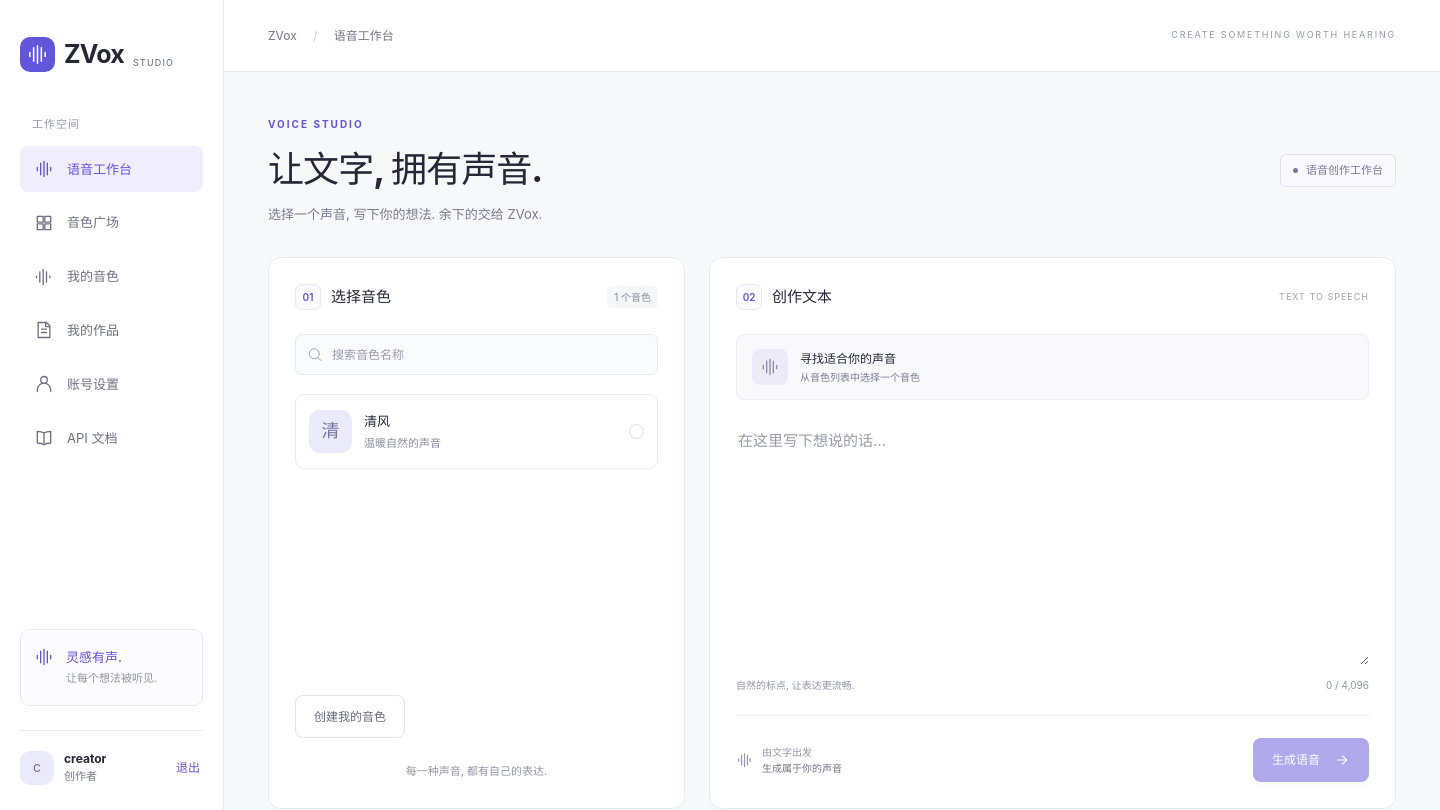
Scenario: application flows › retains user input after rate limiting and never retries creation
This screenshot has width=1440, height=810.
Click the button "清 清风 温暖自然的声音" at (330, 432), box [295,394,658,469]
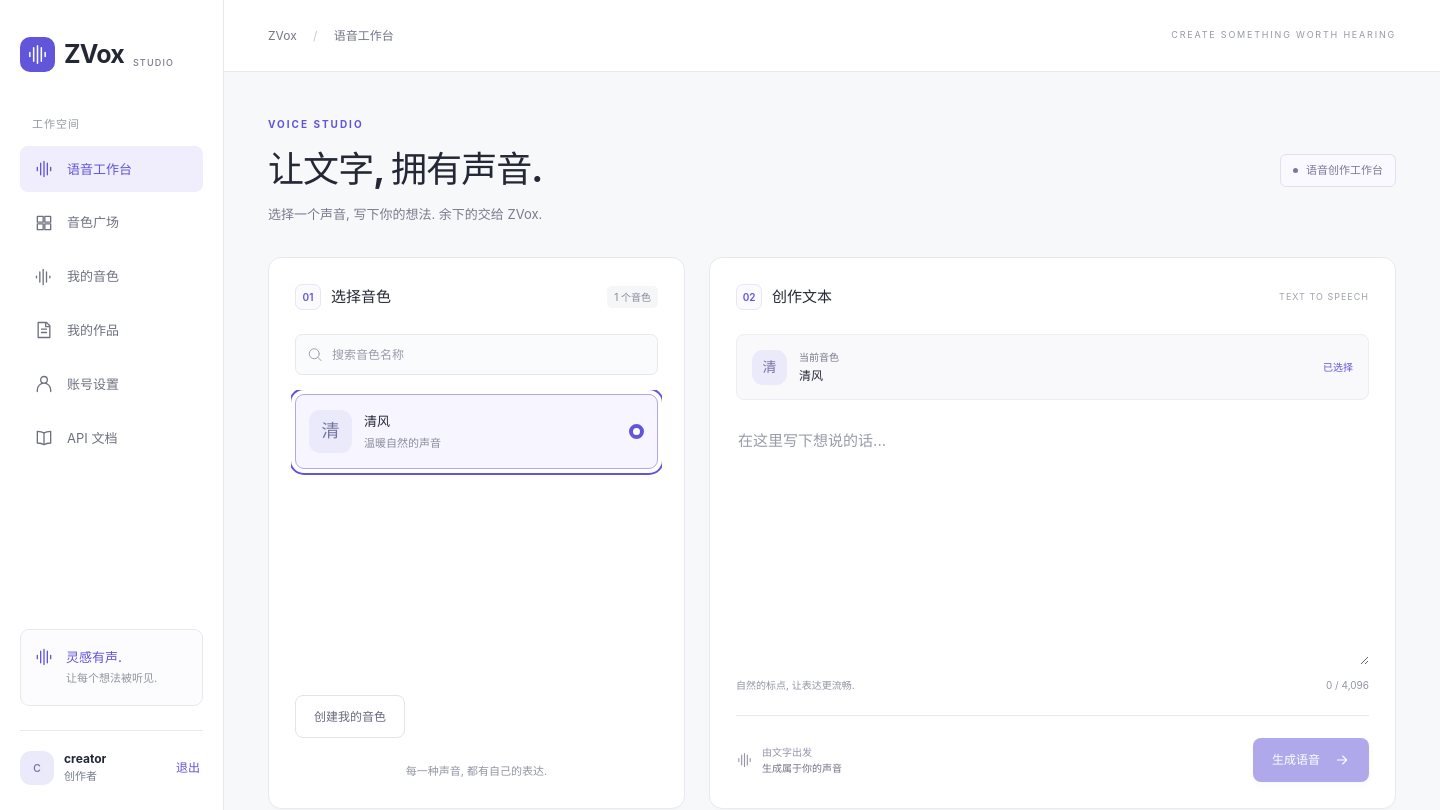
Type "保留这段文本" into the text box named "创作文本" at (1053, 533), box [736,400,1369,665]
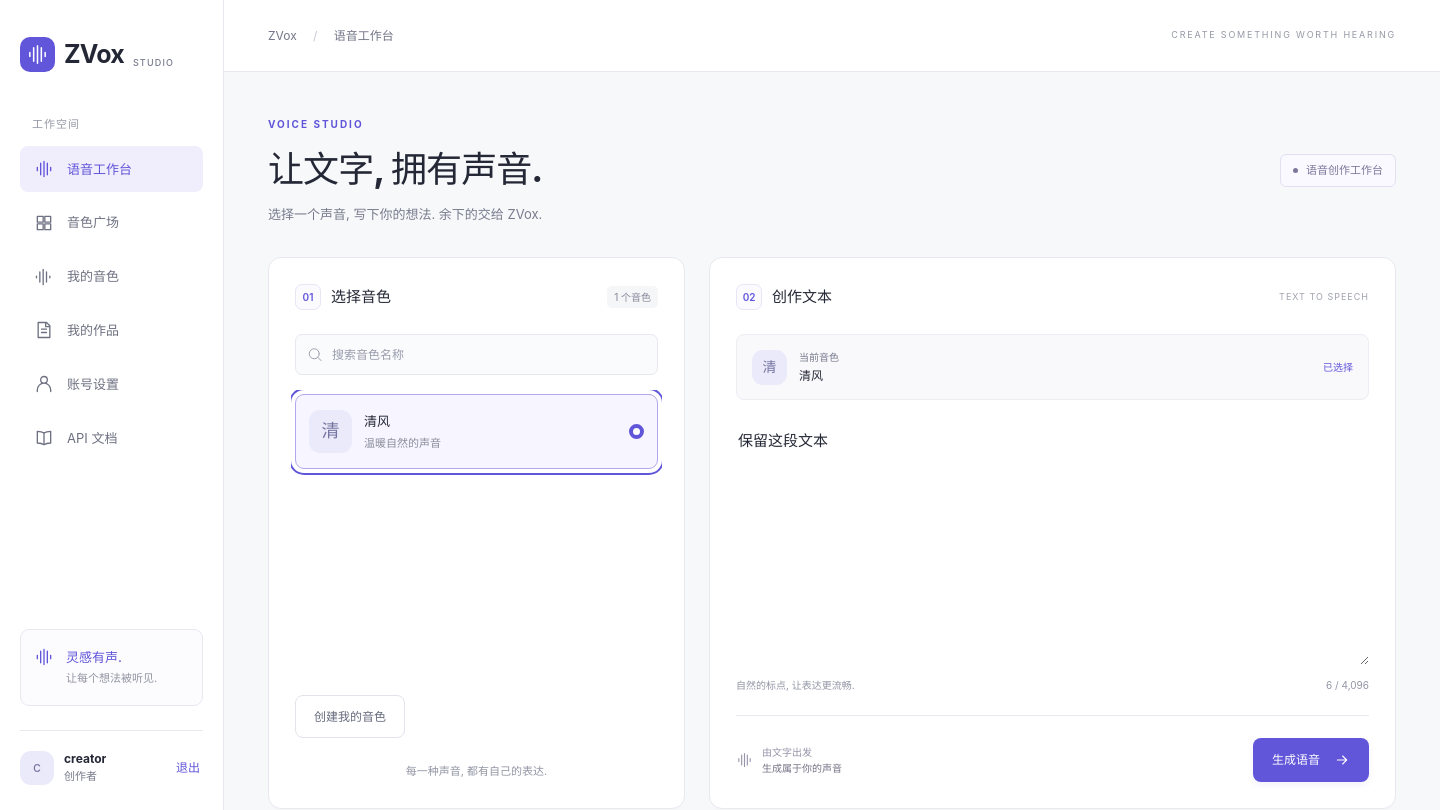
Click the button "生成语音" at (1311, 760), box [1253,738,1369,782]
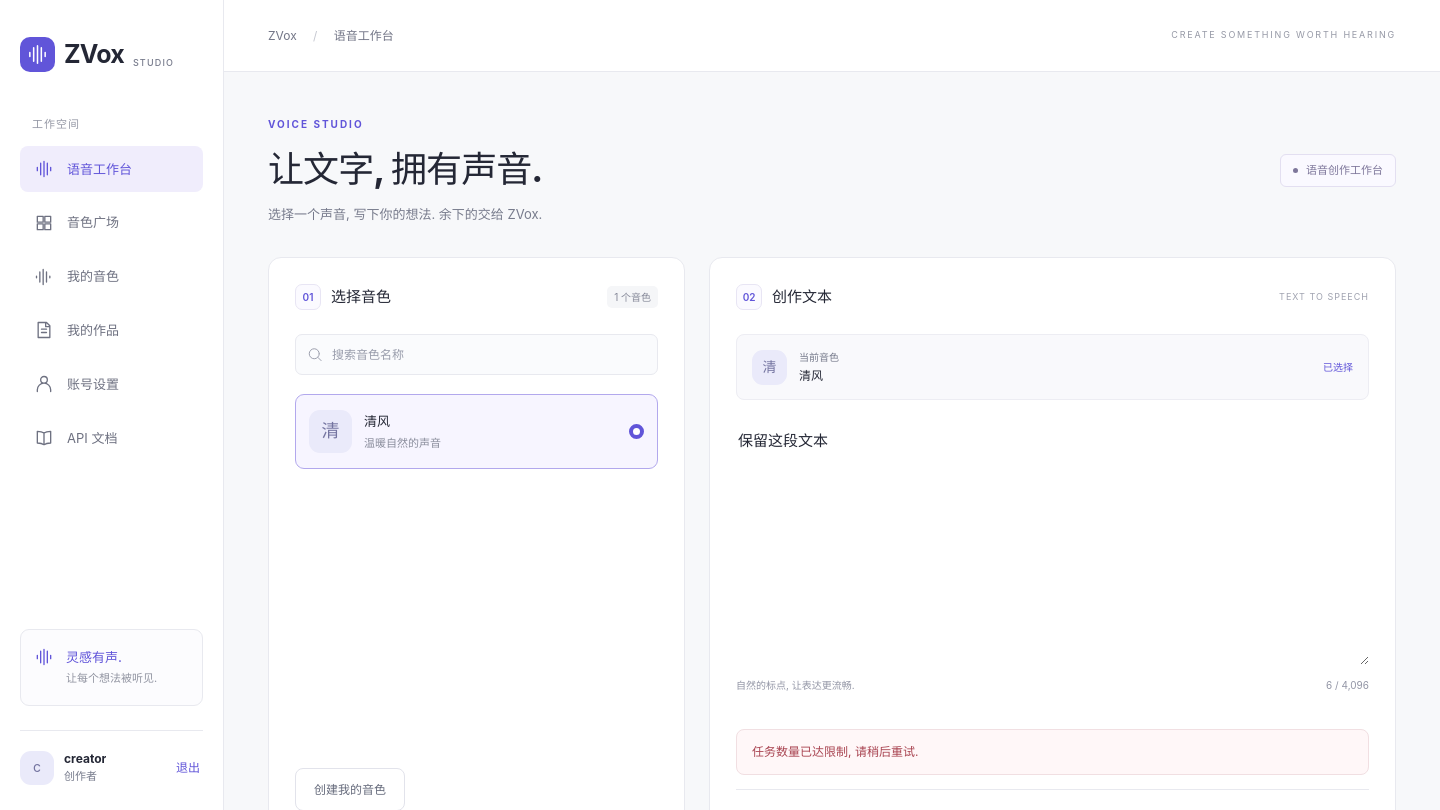
Now the message shows "任务数量已达限制", box [752,744,918,759]
